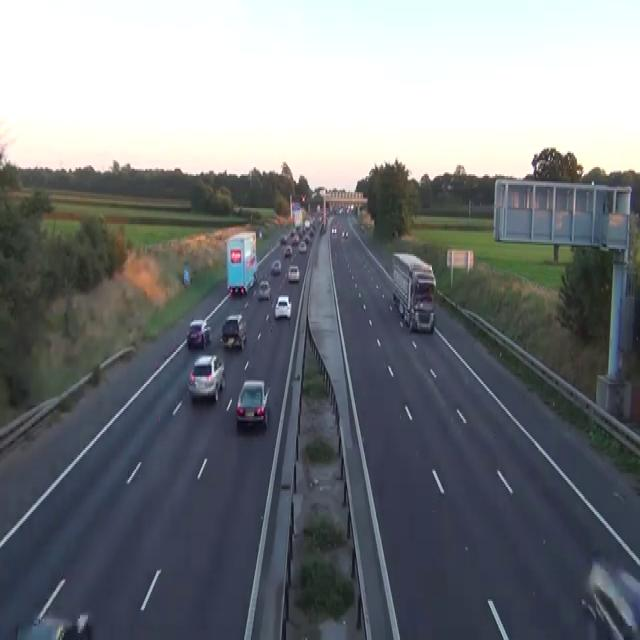Car: (580, 558, 639, 638), (16, 578, 91, 638), (16, 612, 91, 638), (187, 354, 225, 402), (235, 378, 270, 428), (221, 313, 246, 350), (409, 297, 435, 332), (57, 614, 91, 638), (186, 318, 211, 348), (413, 270, 436, 295), (274, 295, 292, 318), (257, 279, 271, 301), (287, 263, 299, 283), (270, 258, 281, 276), (229, 285, 246, 295), (283, 244, 292, 258), (319, 222, 327, 235), (298, 240, 306, 252), (291, 233, 299, 243), (280, 233, 287, 243), (303, 233, 310, 243), (331, 224, 337, 235), (304, 219, 310, 229), (253, 270, 257, 283), (342, 228, 348, 236), (309, 228, 315, 236), (258, 228, 262, 238), (338, 206, 343, 214)
Truck: (391, 250, 436, 332), (225, 229, 257, 295)
